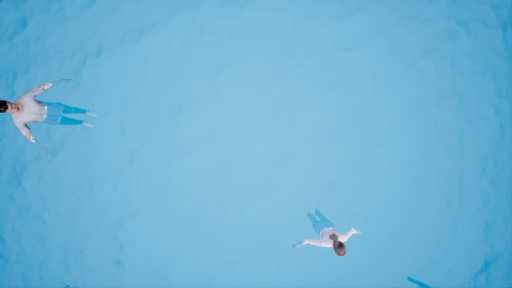person: (1, 77, 105, 151), (287, 208, 373, 259)
